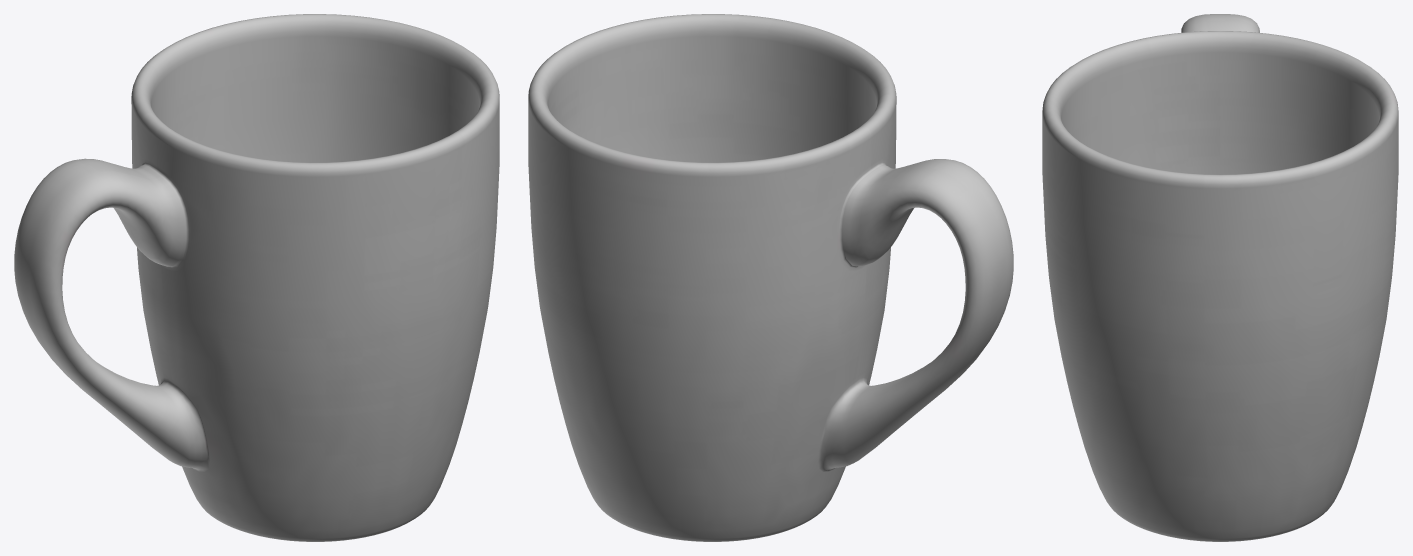
File: dishware_cup_tea_a01.glb
The picture shows the model from 3 angles, left to right: view 1: azimuth 30°, elevation 25°; view 2: azimuth 150°, elevation 25°; view 3: azimuth 270°, elevation 25°; orthographic projection. The views are drawn at different scales.
Parts seen in each view (by area): view 1: cupTea_01_mesh_00; view 2: cupTea_01_mesh_00; view 3: cupTea_01_mesh_00.
Part boxes in pixels (x1=…): cupTea_01_mesh_00: x1=14, y1=14, x2=499, y2=541; cupTea_01_mesh_00: x1=528, y1=14, x2=1013, y2=541; cupTea_01_mesh_00: x1=1042, y1=14, x2=1398, y2=541.
Size of the model in its own units: 0.1188 by 0.1019 by 0.0842.
Materials: 1 (1 with a texture image).
